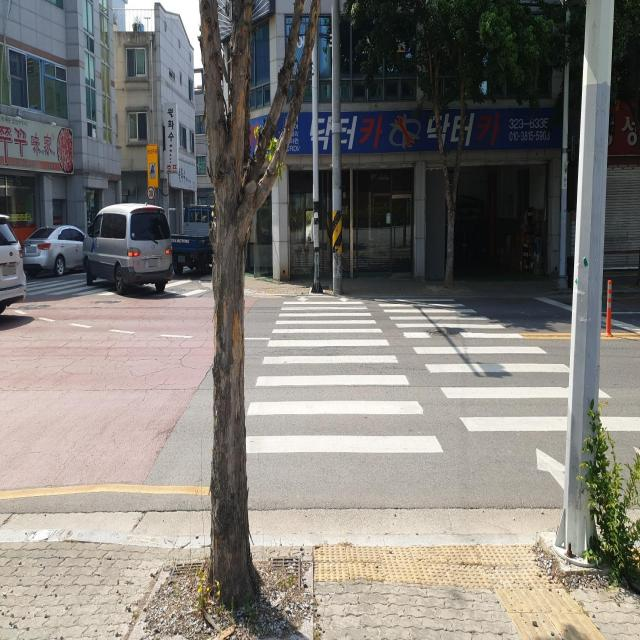횡단보도: (245, 292, 640, 495)
